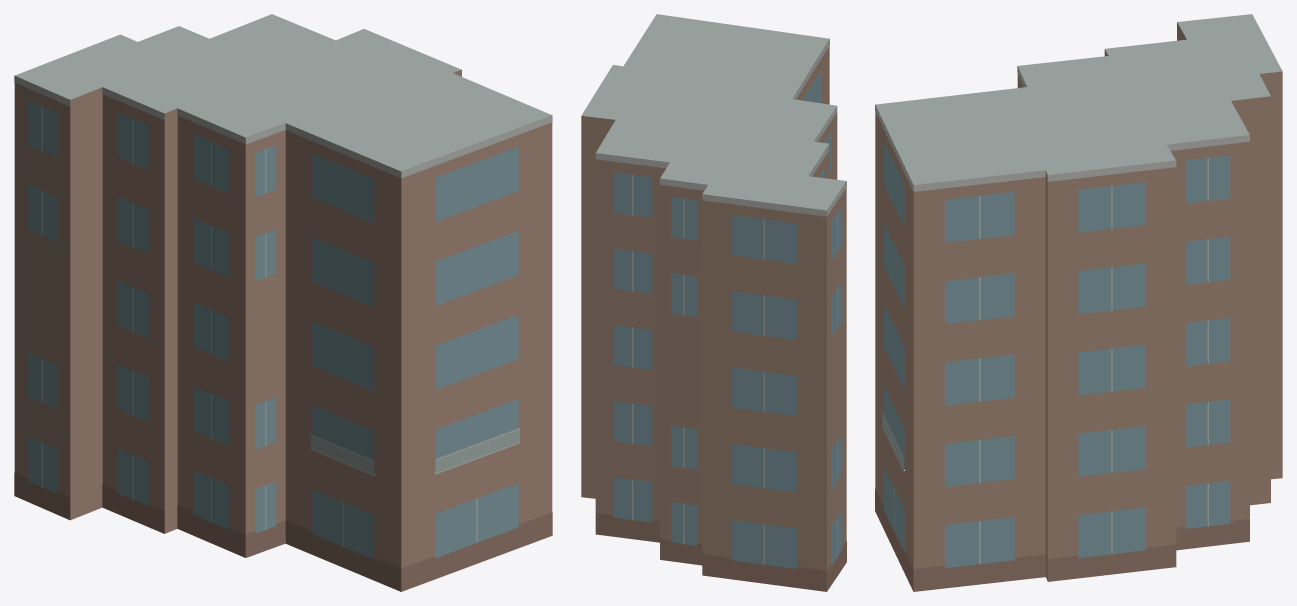
The model's file is survey-upis-32690116.glb.
3 renders of one model, left to right at view 1: azimuth 30°, elevation 25°; view 2: azimuth 150°, elevation 25°; view 3: azimuth 270°, elevation 25°, orthographic. The views are drawn at different scales.
Parts seen in each view (by area): view 1: survey-upis-32690116.tmp; view 2: survey-upis-32690116.tmp; view 3: survey-upis-32690116.tmp.
Boxes of the visible parts, <box> form: survey-upis-32690116.tmp: <box>14,14,552,591</box>; survey-upis-32690116.tmp: <box>581,14,846,591</box>; survey-upis-32690116.tmp: <box>875,14,1282,591</box>.
Size of the model in its own units: 13.37 by 14.8 by 13.45.
